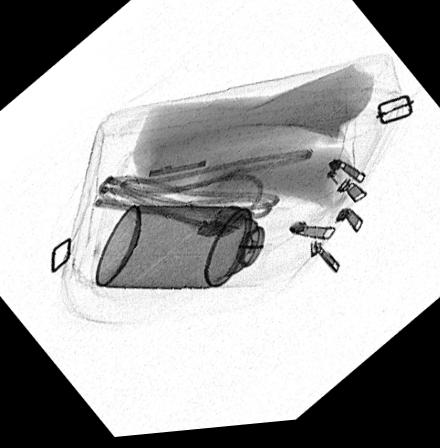Sprayer: (95, 208, 288, 293)
